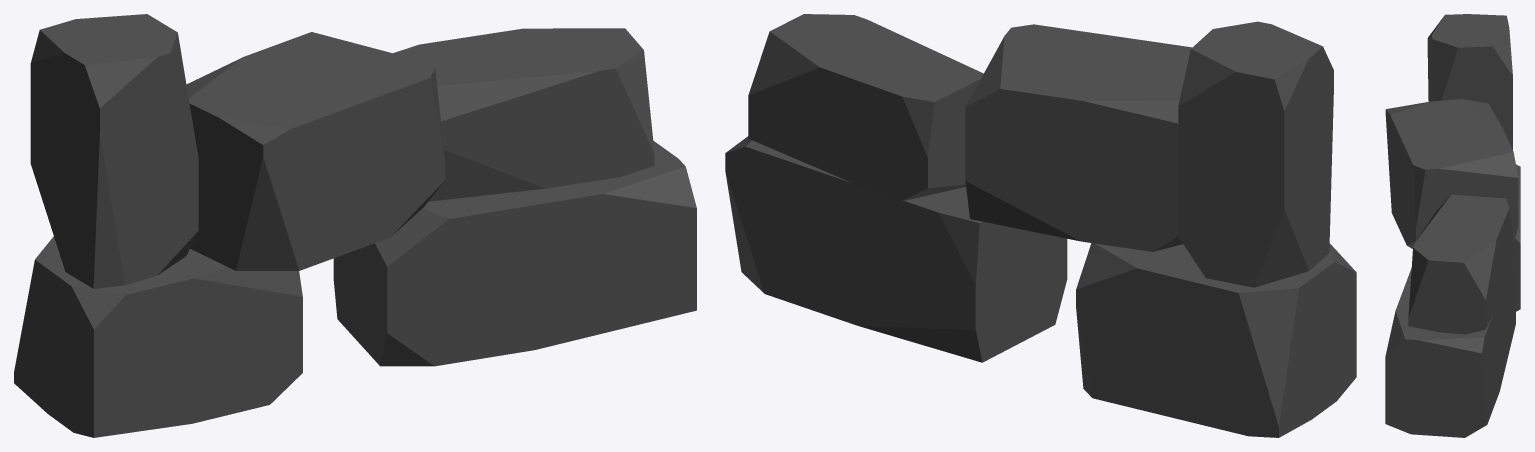
The model's file is Brick_A_12.FBX.
3 renders of one model, left to right at view 1: azimuth 30°, elevation 25°; view 2: azimuth 150°, elevation 25°; view 3: azimuth 270°, elevation 25°, orthographic. The views are drawn at different scales.
Parts seen in each view (by area): view 1: Brick_A_12; view 2: Brick_A_12; view 3: Brick_A_12.
Part boxes in pixels (left/top/right/bottom): Brick_A_12: left=14, top=14, right=696, bottom=437; Brick_A_12: left=725, top=14, right=1356, bottom=437; Brick_A_12: left=1385, top=14, right=1520, bottom=437.
Bounding box in the file's own units: 5.74 × 3.33 × 1.72.
